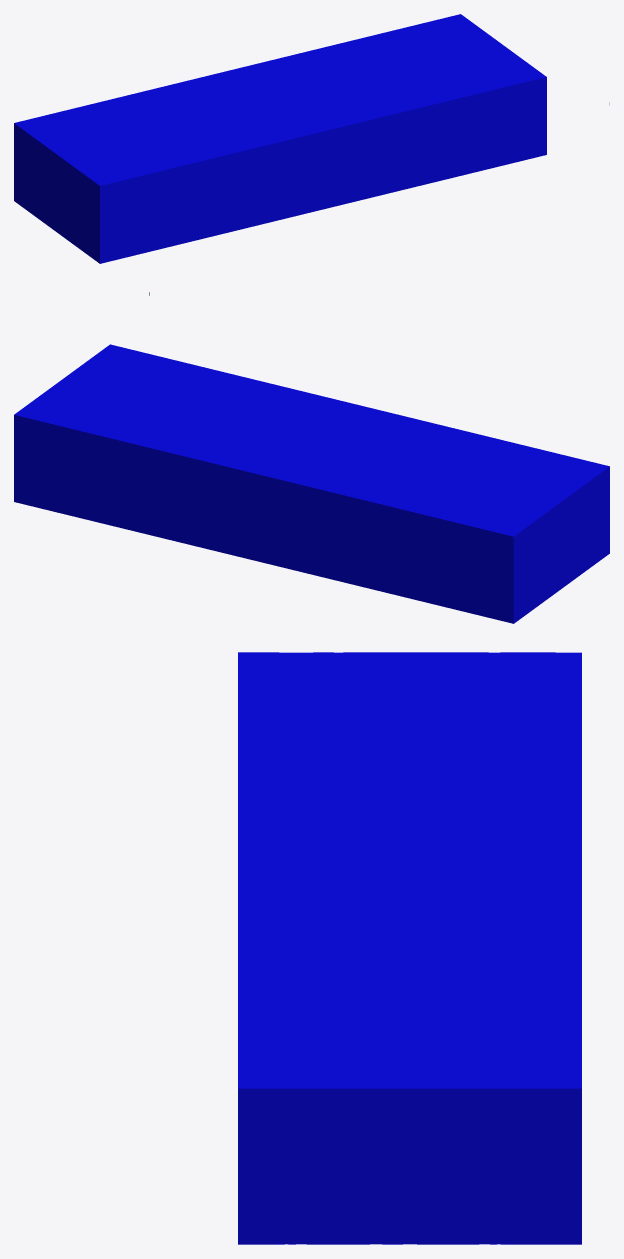
3 renders of one model, top to bottom at view 1: azimuth 30°, elevation 25°; view 2: azimuth 150°, elevation 25°; view 3: azimuth 270°, elevation 25°, orthographic. The views are drawn at different scales.
Parts seen in each view (by area): view 1: Shape_IndexedFaceSet.038; view 2: Shape_IndexedFaceSet.038; view 3: Shape_IndexedFaceSet.038.
Part boxes in pixels (bbox=[...]): Shape_IndexedFaceSet.038: bbox=[14, 14, 546, 263]; Shape_IndexedFaceSet.038: bbox=[14, 344, 609, 623]; Shape_IndexedFaceSet.038: bbox=[238, 652, 581, 1244].
Size of the model in its own units: 310 by 54.82 by 157.
